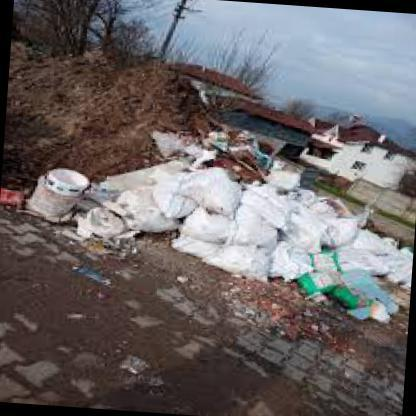Garbage: (53, 266, 112, 303), (1, 184, 27, 224)
